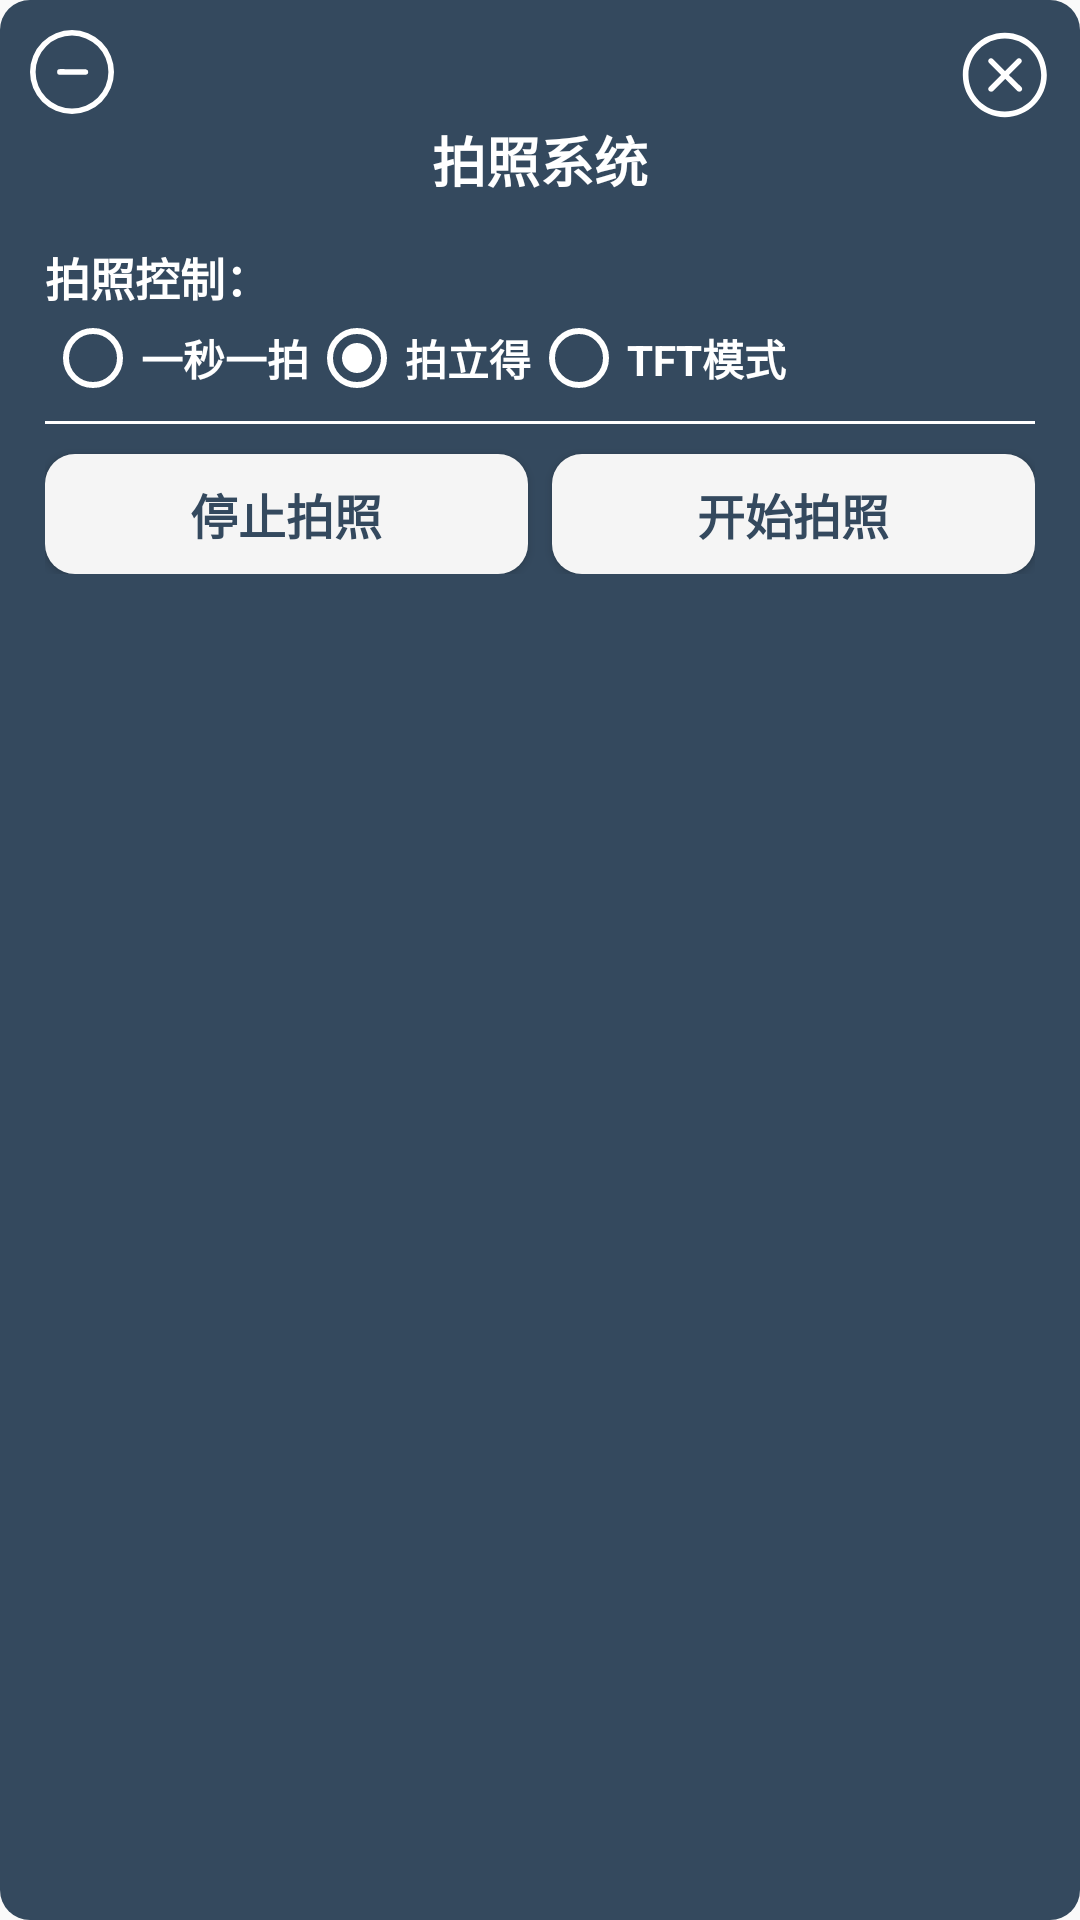

Locate icon controls on the screen. Image size 1080px×1920px, boxes as (x1, y1, x2, y2).
minimize: (30, 30, 114, 114)
关闭悬浮窗: (962, 32, 1047, 118)
